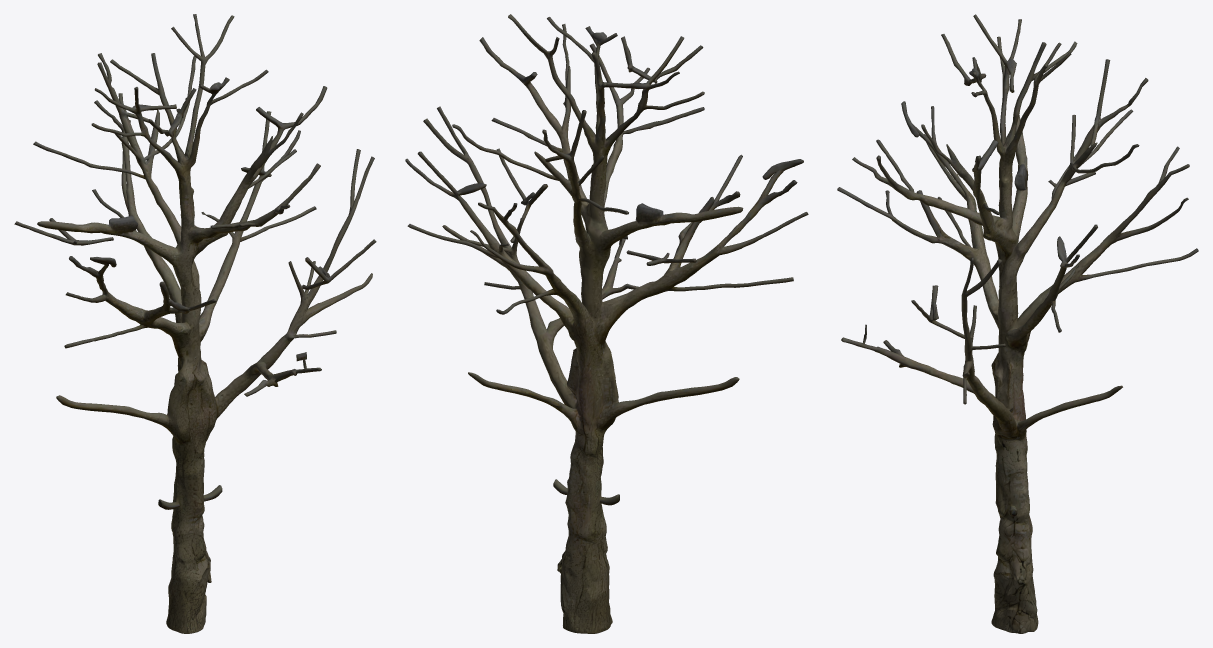
File: tree-bare-structure.glb
3 renders of one model, left to right at view 1: azimuth 30°, elevation 25°; view 2: azimuth 150°, elevation 25°; view 3: azimuth 270°, elevation 25°, orthographic. The views are drawn at different scales.
Visible parts, largest first — view 1: tripo_node_3d6f5458-71ac-4b84-a863-49abfef90dec; view 2: tripo_node_3d6f5458-71ac-4b84-a863-49abfef90dec; view 3: tripo_node_3d6f5458-71ac-4b84-a863-49abfef90dec.
Boxes of the visible parts, left/top/right/bottom form: tripo_node_3d6f5458-71ac-4b84-a863-49abfef90dec: left=14, top=14, right=376, bottom=633; tripo_node_3d6f5458-71ac-4b84-a863-49abfef90dec: left=405, top=14, right=808, bottom=633; tripo_node_3d6f5458-71ac-4b84-a863-49abfef90dec: left=837, top=14, right=1198, bottom=633.
Bounding box in the file's own units: 1.5 × 2.5 × 1.39.
1 material, 1 textured.
